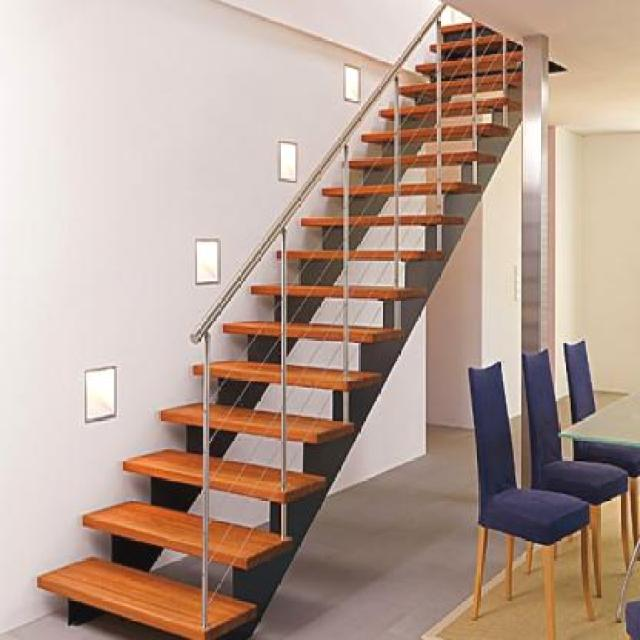stair: (33, 0, 562, 638)
